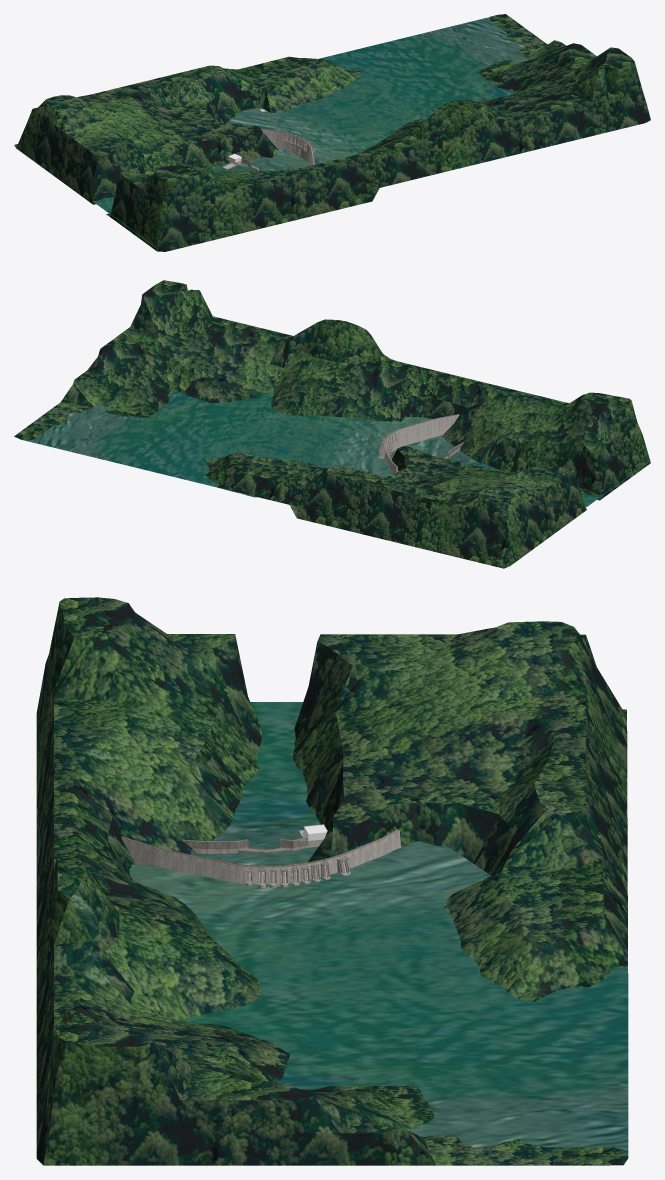
File: TB_FeiCuiShuiKu.FBX
3 renders of one model, top to bottom at view 1: azimuth 30°, elevation 25°; view 2: azimuth 150°, elevation 25°; view 3: azimuth 270°, elevation 25°, orthographic. The views are drawn at different scales.
Parts seen in each view (by area): view 1: TB_FeiCuiShuiKu; view 2: TB_FeiCuiShuiKu; view 3: TB_FeiCuiShuiKu.
Part boxes in pixels (x1,y1,x2,y2): TB_FeiCuiShuiKu: (14, 14, 650, 251); TB_FeiCuiShuiKu: (14, 280, 650, 568); TB_FeiCuiShuiKu: (36, 597, 628, 1165).
Size of the model in its own units: 5849 by 795 by 3040.
8 materials, 7 textured.
